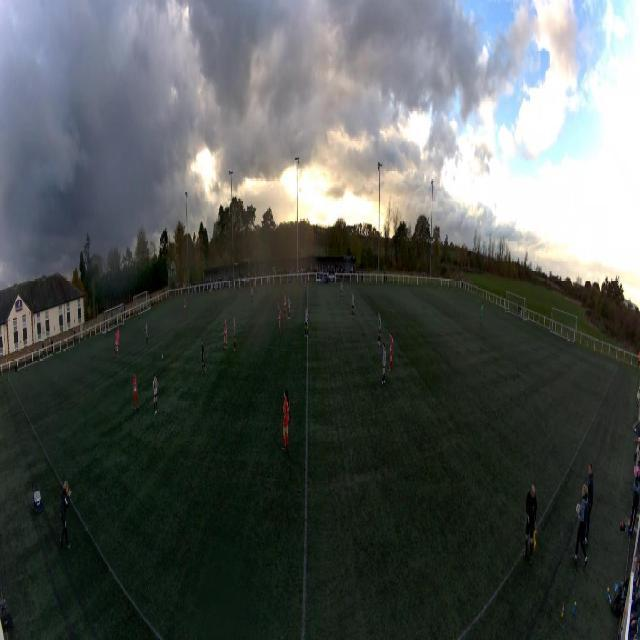ball: (162, 354, 164, 360)
player: (282, 391, 291, 447), (133, 369, 140, 413), (152, 372, 158, 414), (200, 338, 206, 374), (381, 343, 386, 385), (389, 332, 394, 370), (304, 307, 309, 336), (377, 312, 381, 346), (223, 319, 227, 350), (278, 305, 282, 336), (351, 292, 355, 318), (287, 294, 291, 320), (233, 318, 236, 352), (283, 293, 287, 318), (115, 334, 118, 358), (339, 283, 343, 300), (145, 322, 148, 344), (480, 304, 483, 325), (117, 328, 120, 347), (251, 287, 254, 305), (253, 276, 256, 293), (304, 275, 307, 291), (184, 300, 186, 317)
